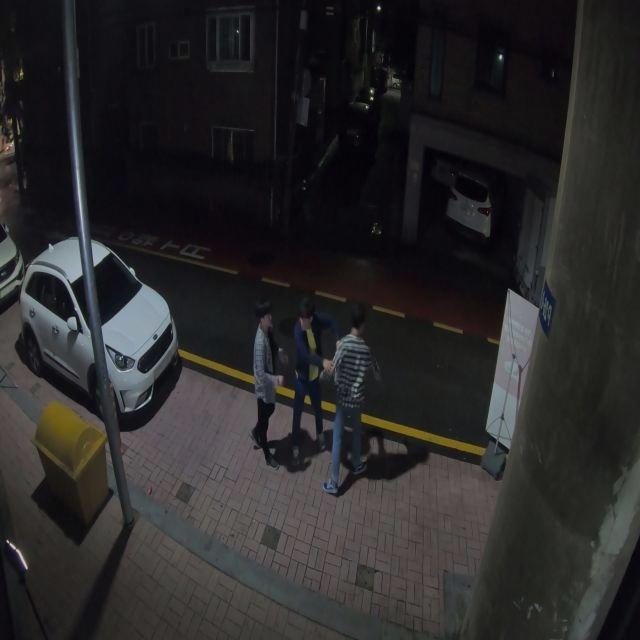fight: (248, 296, 384, 496)
